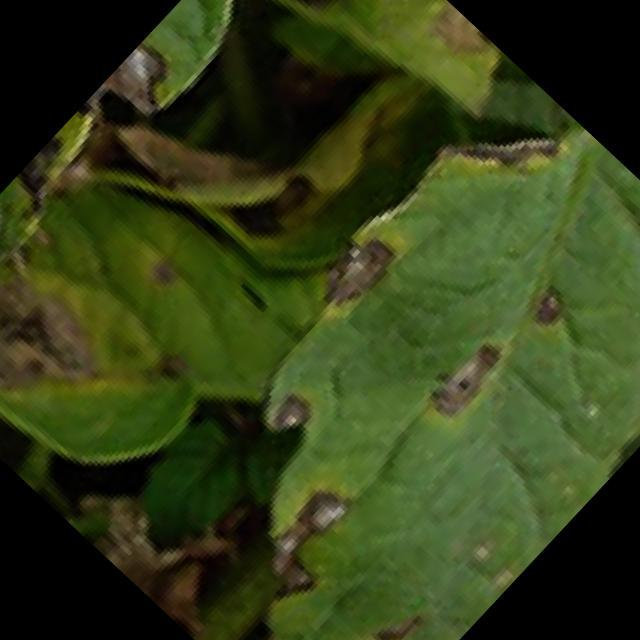Tomato Early blight leaf: (135, 75, 640, 640)
